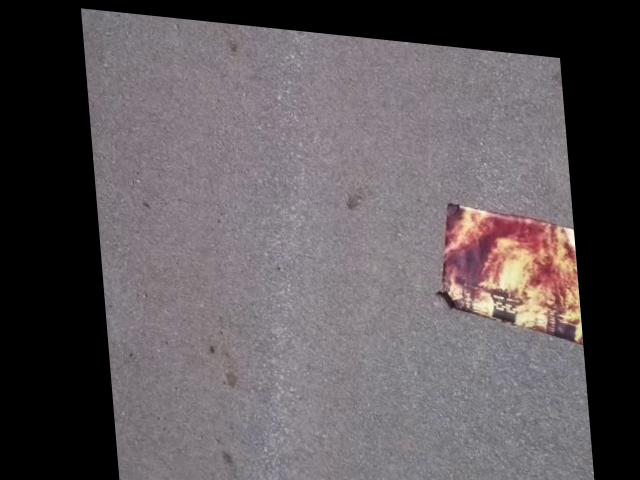fire-poster: (423, 189, 578, 336)
